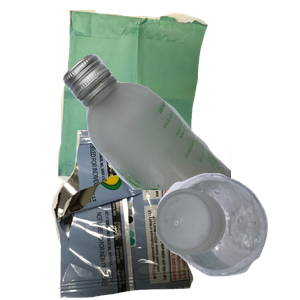glass: (60, 51, 300, 231)
paper: (55, 10, 255, 190)
plastic: (153, 170, 300, 300)
trash: (49, 130, 235, 300)
